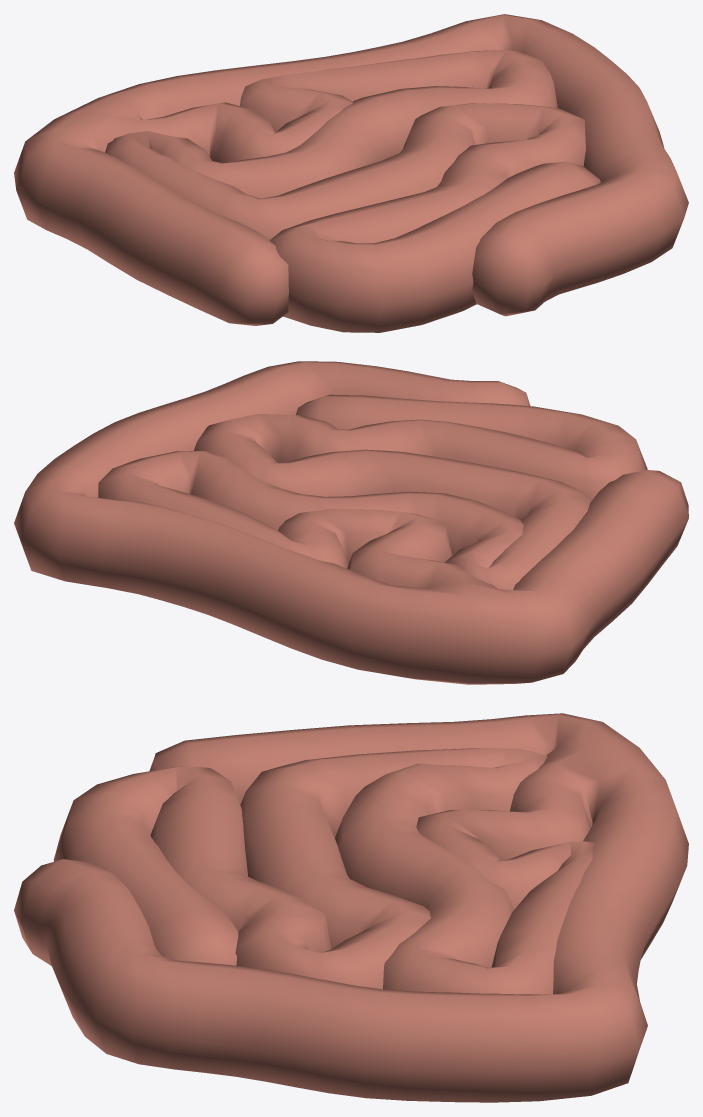
The model's file is INTESTINES.fbx.
3 renders of one model, top to bottom at view 1: azimuth 30°, elevation 25°; view 2: azimuth 150°, elevation 25°; view 3: azimuth 270°, elevation 25°, orthographic. The views are drawn at different scales.
Visible parts, largest first — view 1: INTESTINES; view 2: INTESTINES; view 3: INTESTINES.
Boxes of the visible parts, x1=… form: INTESTINES: x1=14, y1=14, x2=688, y2=332; INTESTINES: x1=14, y1=361, x2=688, y2=684; INTESTINES: x1=14, y1=713, x2=688, y2=1102.
Size of the model in its own units: 313 by 47.53 by 273.
